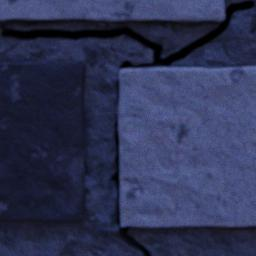brick: (118, 66, 255, 227), (0, 60, 86, 221), (0, 0, 224, 21)
crack: (2, 0, 254, 70), (111, 118, 151, 255), (117, 72, 120, 107)
